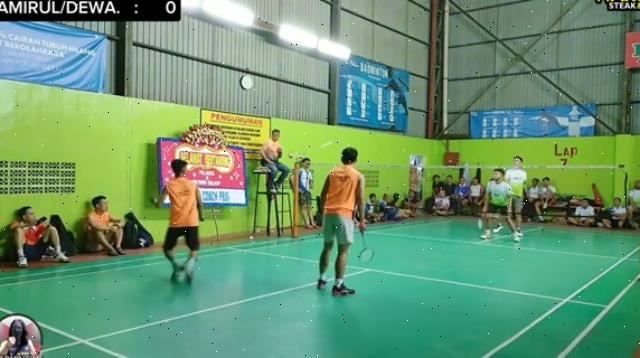Shuttlecock: (320, 140, 336, 150)
